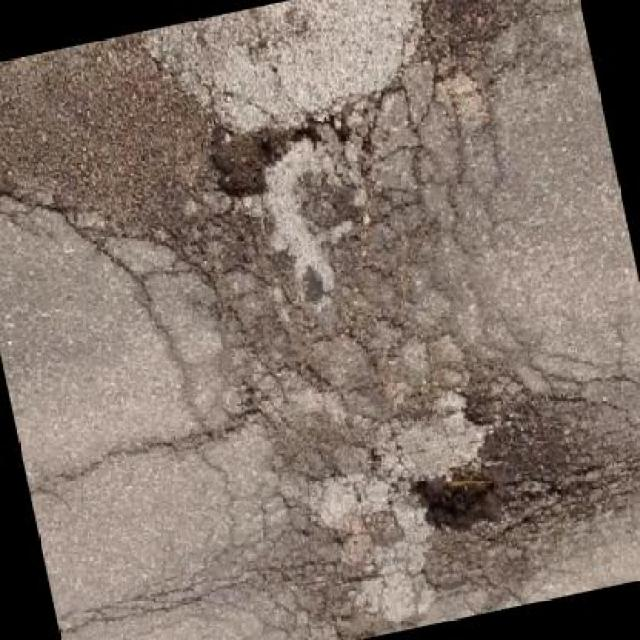pothole1: (408, 458, 508, 545), (201, 110, 284, 208)
